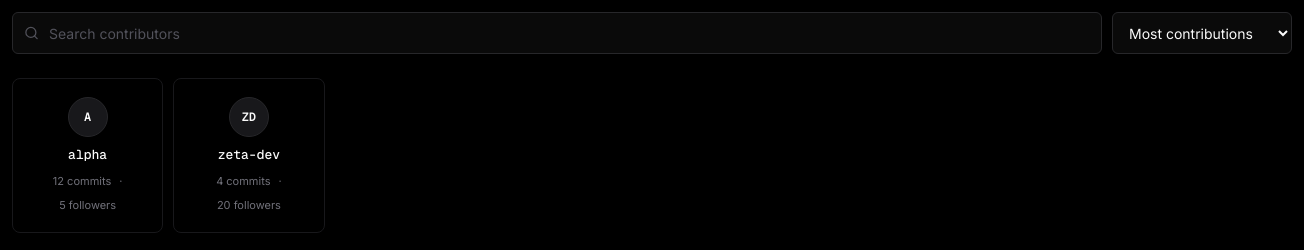
Test: CardsContributors › filters contributors and shows the empty state
Step 1. Type "missing" into the search field labelled "Search contributors" → (557, 33), box [12, 12, 1102, 54]
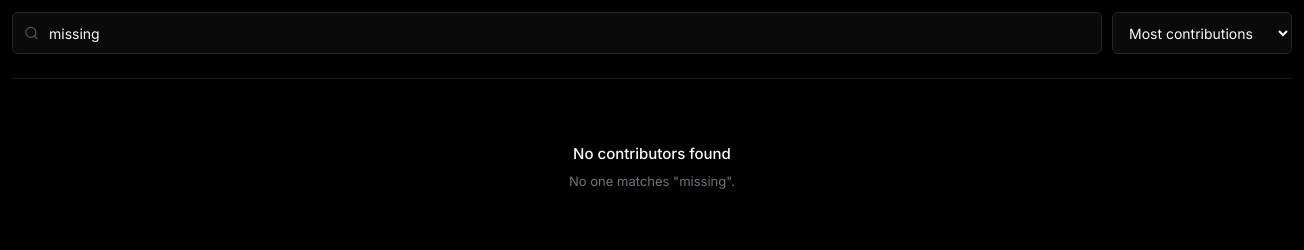
Now the text "No contributors found" is shown, box [573, 144, 731, 163]
Now the text "No one matches \"missing\"." is shown, box [569, 172, 735, 188]
